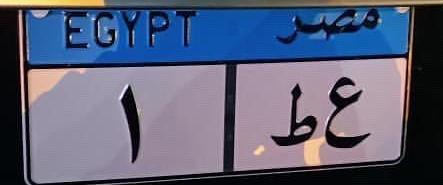1: (119, 81, 141, 166)
Taa: (269, 84, 316, 153)
ain: (323, 72, 372, 153)
